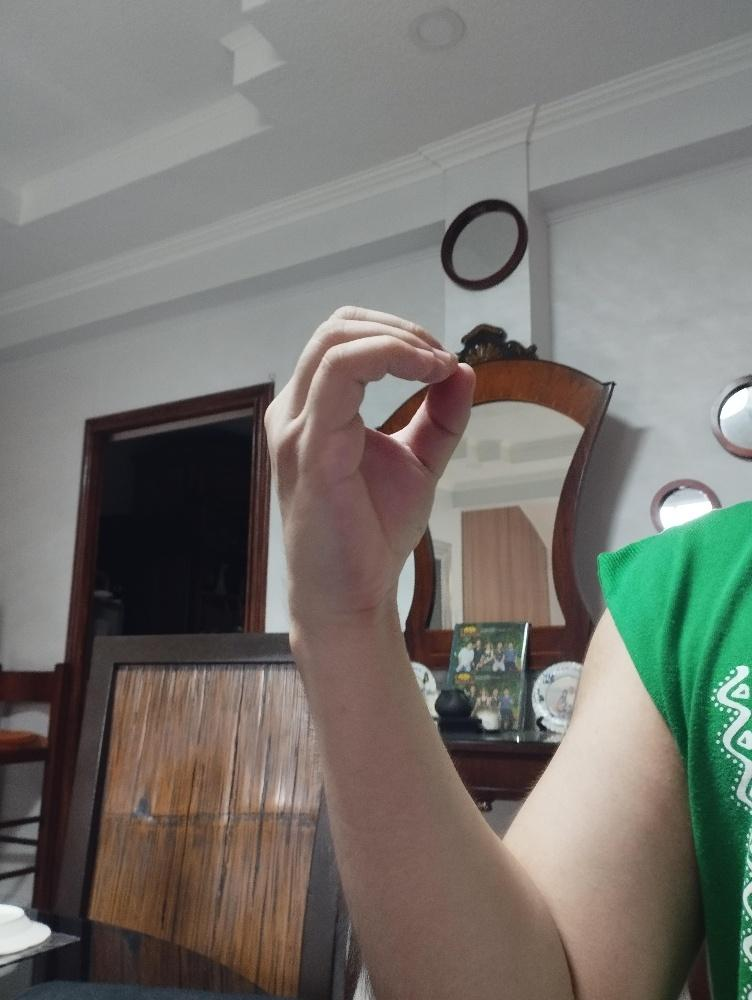o: (260, 300, 479, 615)
